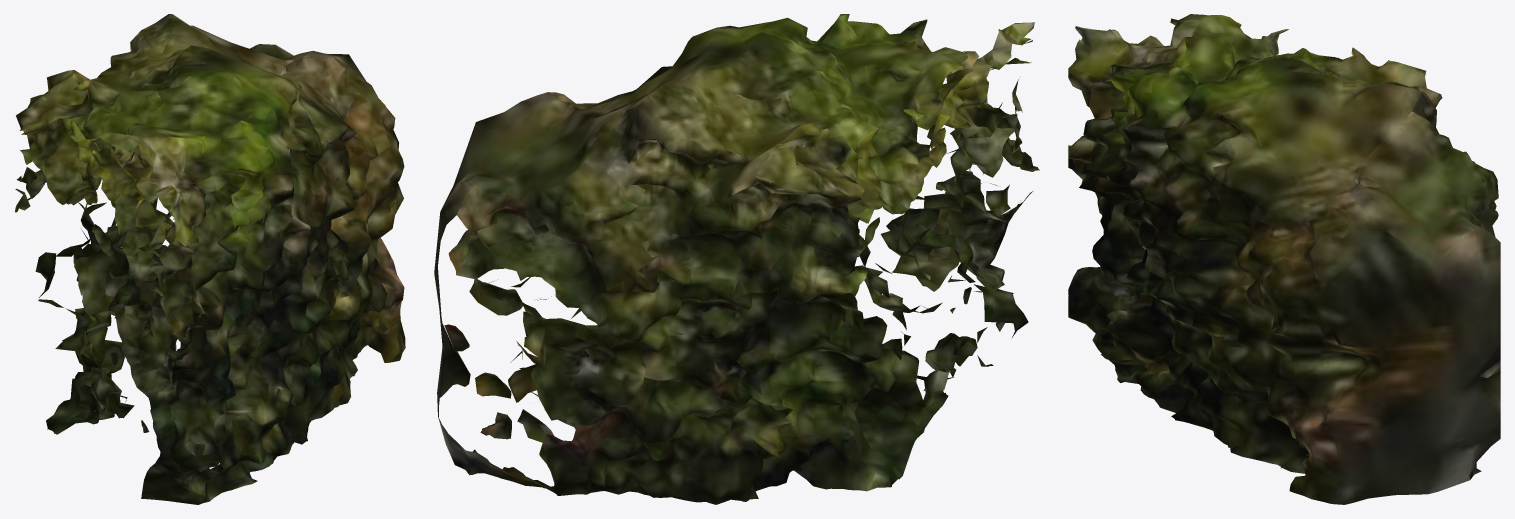
3 views of the same model, side by side, from view 1: azimuth 30°, elevation 25°; view 2: azimuth 150°, elevation 25°; view 3: azimuth 270°, elevation 25° (orthographic). The views are drawn at different scales.
Bounding box in the file's own units: 1.13 × 1.03 × 1.21.
Materials: 1 (1 with a texture image).
